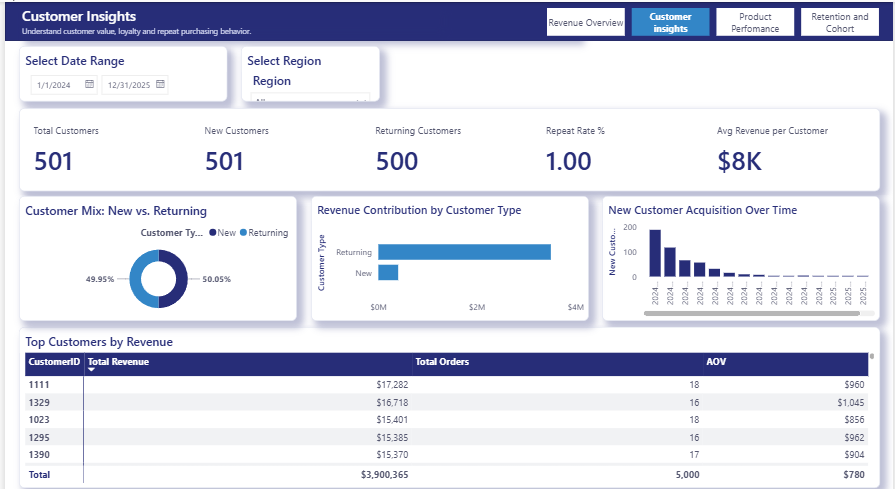

This screenshot's page, from the dashboard's own definition file:
{"tool":"powerbi","page":{"name":"Customer insights","canvas":[1280,720],"ordinal":1},"visuals":[{"type":"card","fields":{"Values":["Ecommerce_Sales_Dataset_PowerBI.Total Customers"]},"box":[10,0,280,280],"z":0},{"type":"card","fields":{"Values":["DateTable.Repeat Rate %"]},"box":[215.1,0,279.5,281],"z":1000},{"type":"card","fields":{"Values":["Ecommerce_Sales_Dataset_PowerBI.AOV"]},"box":[437.6,0,279.5,279.5],"z":2000},{"type":"donutChart","title":"Customer Type Distribution","fields":{"Y":["Ecommerce_Sales_Dataset_PowerBI.Total Customers"],"Category":["Ecommerce_Sales_Dataset_PowerBI.Customer Type"]},"box":[0,313.2,437.6,288.3],"z":3000},{"type":"tableEx","title":"Customer Type Summary","fields":{"Values":["Ecommerce_Sales_Dataset_PowerBI.Customer Type","Ecommerce_Sales_Dataset_PowerBI.Total Customers"]},"box":[911.7,313.2,368.8,218],"z":4000},{"type":"clusteredBarChart","title":"Revenue by Customer Type","fields":{"Category":["Ecommerce_Sales_Dataset_PowerBI.Customer Type"],"Y":["Ecommerce_Sales_Dataset_PowerBI.Total Revenue"]},"box":[510.7,313.2,332.2,329.3],"z":5000},{"type":"tableEx","fields":{"Values":["Ecommerce_Sales_Dataset_PowerBI.Customer Type","Ecommerce_Sales_Dataset_PowerBI.Customer Revenue"]},"box":[882.4,57.1,383.4,184.4],"z":6000}]}

Visuals, with their boxes in screenshot pixels (x1, y1, x2, y2), scaled from the page's 1280x720 canvas onto the 895x489 screenshot:
card - Ecommerce_Sales_Dataset_PowerBI.Total Customers: (7,0,203,190)
card - DateTable.Repeat Rate %: (150,0,346,191)
card - Ecommerce_Sales_Dataset_PowerBI.AOV: (306,0,501,190)
"Customer Type Distribution" donutChart: (0,213,306,409)
"Customer Type Summary" tableEx: (637,213,894,361)
"Revenue by Customer Type" clusteredBarChart: (357,213,589,436)
tableEx - Ecommerce_Sales_Dataset_PowerBI.Customer Type x Ecommerce_Sales_Dataset_PowerBI.Customer Revenue: (617,39,885,164)
